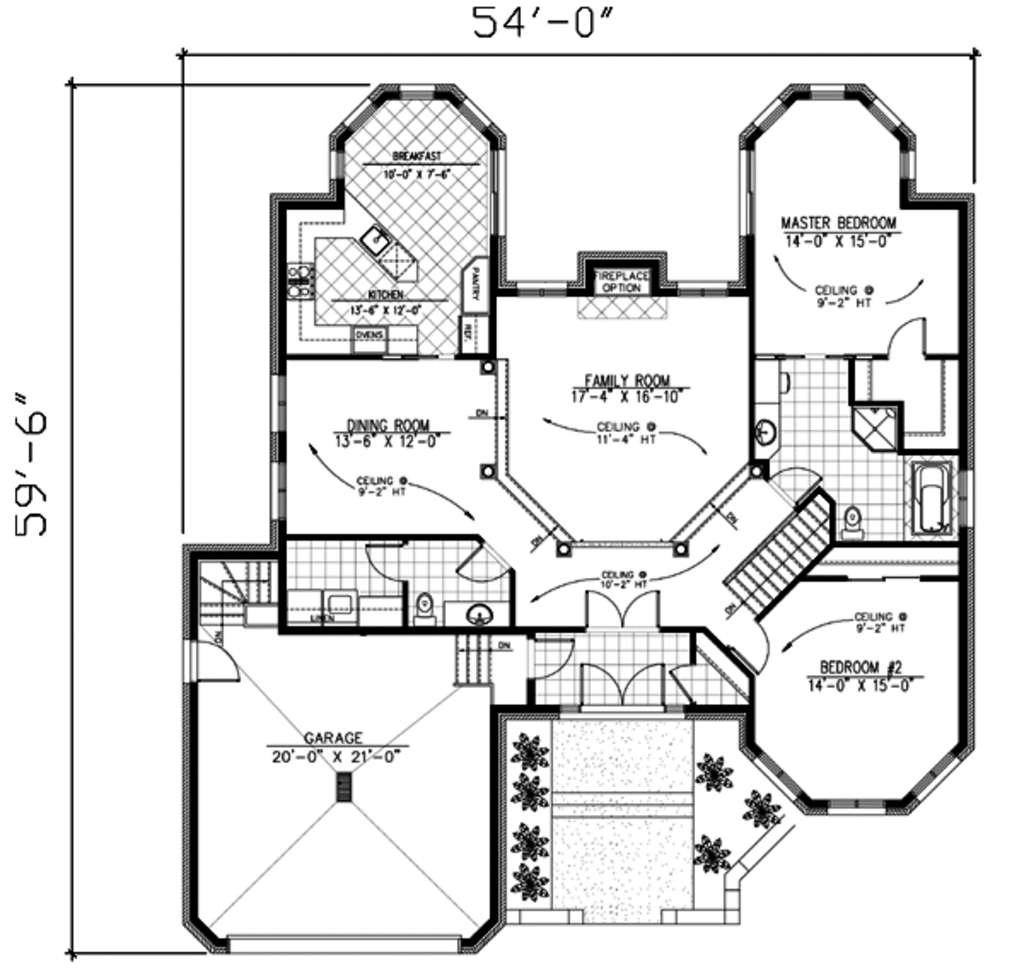door: (571, 654, 664, 717), (176, 625, 248, 685), (589, 586, 664, 637), (724, 609, 770, 679), (883, 304, 934, 364), (365, 536, 419, 591), (526, 627, 577, 678), (457, 538, 509, 587), (671, 651, 707, 711), (768, 460, 819, 501)
large_sink: (834, 494, 881, 549), (411, 589, 439, 635)
small_sink: (739, 394, 793, 455), (446, 595, 513, 626)
stairs: (717, 493, 829, 619), (196, 552, 289, 646), (452, 630, 524, 688)
tub: (907, 446, 961, 546)
window: (901, 742, 978, 820), (739, 741, 802, 811), (729, 138, 768, 241), (484, 140, 519, 241), (258, 369, 301, 434), (825, 784, 890, 824), (510, 267, 569, 303), (265, 459, 292, 527), (674, 279, 738, 302)
